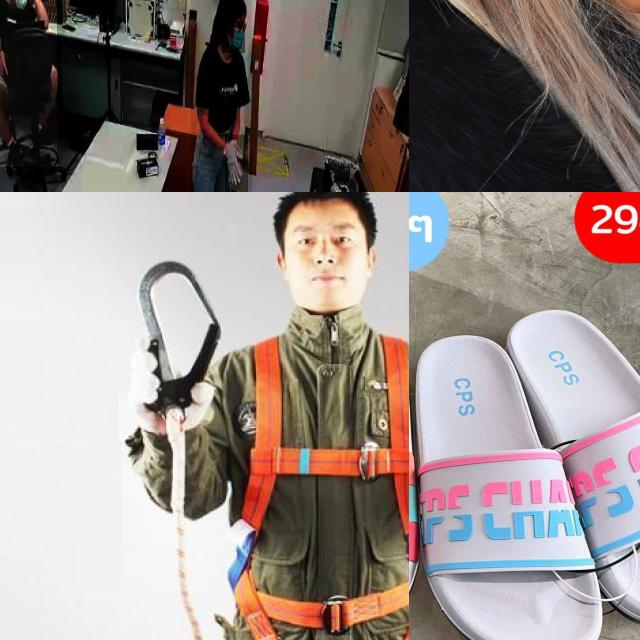Harness: (225, 331, 409, 640)
No_Ear-Protection: (272, 248, 293, 286), (364, 243, 381, 283)
No_Glasses: (274, 222, 370, 252)
Sandals: (409, 297, 640, 640)
face_mask: (222, 21, 245, 53), (8, 0, 29, 15)
hand_glove: (225, 134, 248, 192)
hand_noglove: (29, 0, 38, 4)
head_nohelmet: (214, 0, 245, 13)
person: (191, 0, 252, 192), (0, 0, 57, 167)
